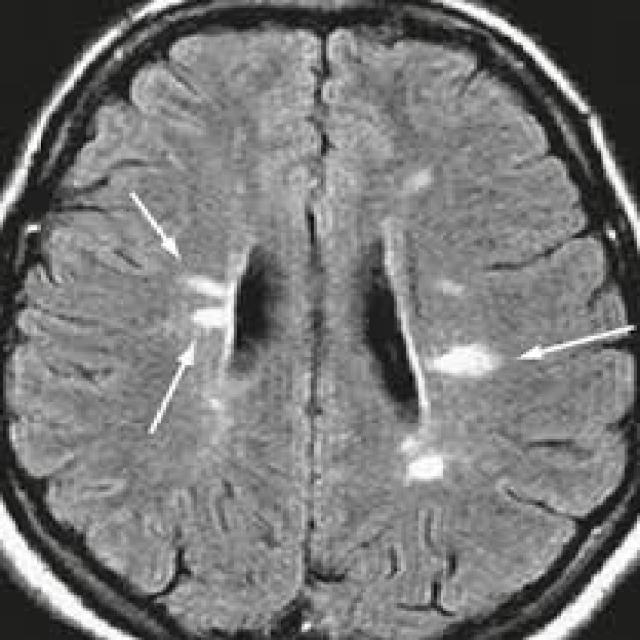notumor: (0, 0, 637, 637)
